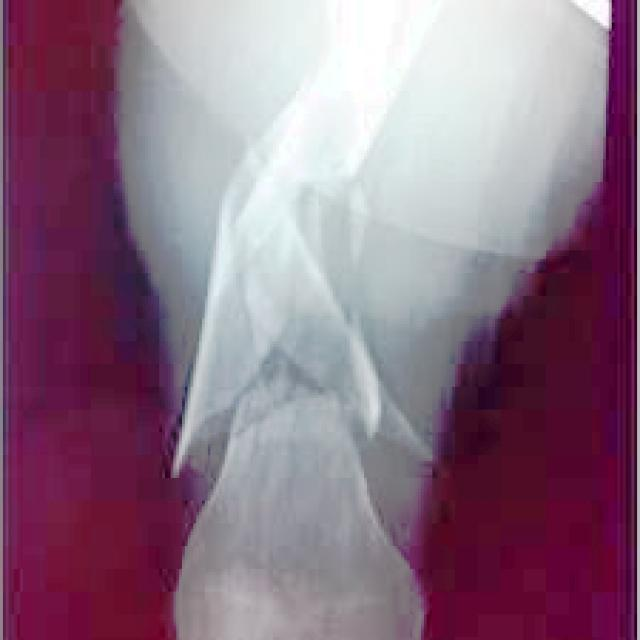Comminuted Fracture: (162, 331, 394, 468)
